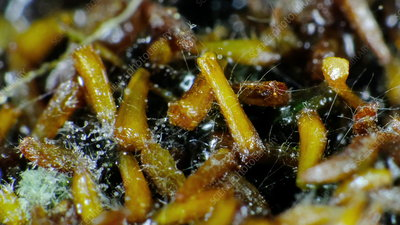Mucor: (15, 160, 92, 209), (152, 113, 224, 154), (53, 70, 93, 105), (181, 72, 213, 102)
